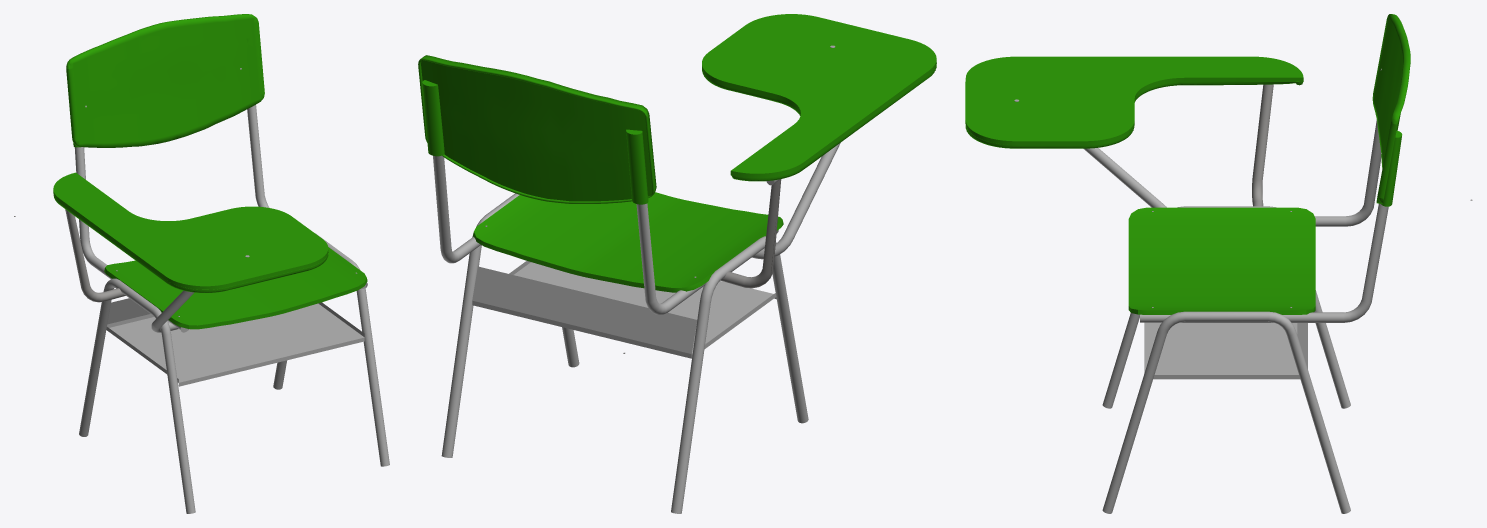
The model's file is PUPITRE-VERDE.fbx.
3 views of the same model, side by side, from view 1: azimuth 30°, elevation 25°; view 2: azimuth 150°, elevation 25°; view 3: azimuth 270°, elevation 25° (orthographic). The views are drawn at different scales.
Parts seen in each view (by area): view 1: pCube2, polySurface14, pupitre1:group_9SketchUpgroup_29, pCube1, polySurface15, pupitre1:group_9SketchUpgroup_14group_16, pupitre1:group_9SketchUpgroup_15group_14, polySurface10, pasted__polySurface5, polySurface3, pasted__polySurface11, polySurface5 (+1 smaller); view 2: pCube2, polySurface14, pCube1, pupitre1:group_9SketchUpgroup_29, polySurface15, pupitre1:group_9SketchUpgroup_14group_16, pupitre1:group_9SketchUpgroup_15group_14, polySurface5, polySurface10, polySurface3, pasted__polySurface5, pupitre1:group_9SketchUpgroup_12 (+3 smaller); view 3: pCube1, polySurface14, pupitre1:group_9SketchUpgroup_29, polySurface15, pupitre1:group_9SketchUpgroup_15group_14, pCube2, polySurface3, pupitre1:group_9SketchUpgroup_14group_16, polySurface10, polySurface5, pasted__polySurface5, pasted__polySurface11 (+2 smaller).
Part boxes in pixels (<box>): pCube2: <box>66,14,264,147</box>; polySurface14: <box>53,172,328,286</box>; pupitre1:group_9SketchUpgroup_29: <box>106,298,364,386</box>; pCube1: <box>104,247,367,329</box>; polySurface15: <box>54,174,328,285</box>; pupitre1:group_9SketchUpgroup_14group_16: <box>79,278,195,513</box>; pupitre1:group_9SketchUpgroup_15group_14: <box>273,233,389,466</box>; polySurface10: <box>53,190,328,289</box>; pasted__polySurface5: <box>65,209,125,302</box>; polySurface3: <box>247,105,367,289</box>; pasted__polySurface11: <box>54,196,328,292</box>; polySurface5: <box>74,147,188,331</box>; pCube2: <box>418,55,656,203</box>; polySurface14: <box>702,14,936,173</box>; pCube1: <box>473,192,783,292</box>; pupitre1:group_9SketchUpgroup_29: <box>472,261,776,358</box>; polySurface15: <box>703,14,935,173</box>; pupitre1:group_9SketchUpgroup_14group_16: <box>671,236,808,513</box>; pupitre1:group_9SketchUpgroup_15group_14: <box>441,193,579,457</box>; polySurface5: <box>636,203,777,314</box>; polySurface10: <box>702,60,936,178</box>; polySurface3: <box>433,155,480,263</box>; pasted__polySurface5: <box>721,179,781,288</box>; pupitre1:group_9SketchUpgroup_12: <box>752,143,840,259</box>; pCube1: <box>1128,207,1315,314</box>; polySurface14: <box>965,56,1303,141</box>; pupitre1:group_9SketchUpgroup_29: <box>1144,322,1307,379</box>; polySurface15: <box>965,56,1300,140</box>; pupitre1:group_9SketchUpgroup_15group_14: <box>1102,311,1350,513</box>; pCube2: <box>1372,14,1410,204</box>; polySurface3: <box>1140,203,1388,322</box>; pupitre1:group_9SketchUpgroup_14group_16: <box>1102,206,1350,408</box>; polySurface10: <box>965,77,1303,145</box>; polySurface5: <box>1314,119,1381,226</box>; pasted__polySurface5: <box>1252,84,1273,206</box>; pasted__polySurface11: <box>965,81,1302,148</box>.
Bounding box in the file's own units: 71.02 × 94.02 × 106.
